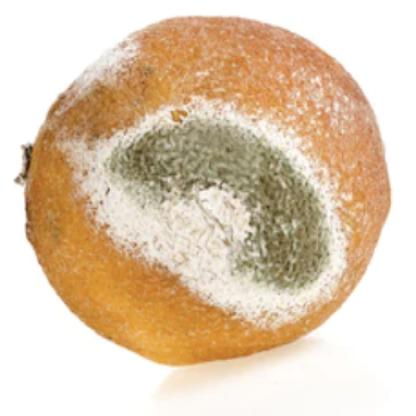rotten: (25, 19, 392, 369)
